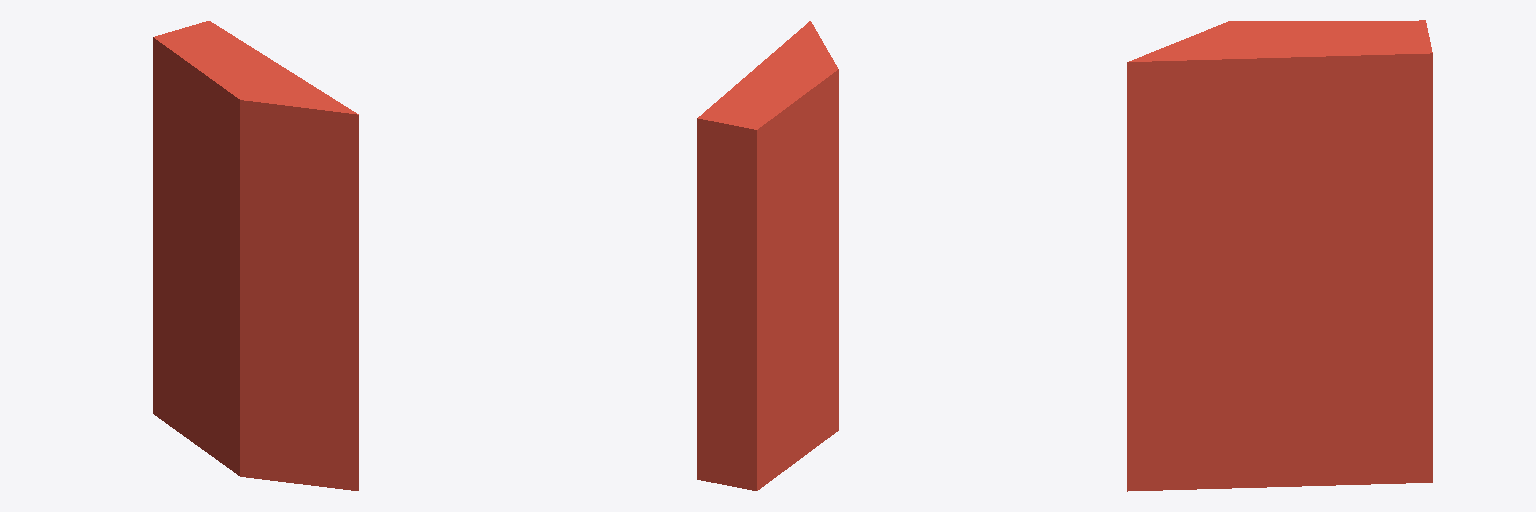
The robot description file, URDF, robot "quad_prism_9":
<?xml version="1.0" ?>
<robot name="quad_prism_9">
  <link name="base_link">
    <visual>
      <origin xyz="0 0 0" rpy="0 0 0"/>
      <geometry>
        <mesh filename="quad_prism_9.stl"/>
      </geometry>
      <material name="color">
        <color rgba="0.9521690641657882 0.3974659452846171 0.3192921887603527 1.0"/>
      </material>
    </visual>
    <collision>
      <origin xyz="0 0 0" rpy="0 0 0"/>
      <geometry>
        <mesh filename="quad_prism_9.stl"/>
      </geometry>
    </collision>
    <inertial>
      <origin xyz="0 0 0" rpy="0 0 0"/>
      <mass value="1.0"/>
      <inertia ixx="0.1" ixy="0" ixz="0" iyy="0.1" iyz="0" izz="0.1"/>
    </inertial>
  </link>
</robot>

--- Facts derived from the render (not from the file) ---
The picture shows the robot from 3 angles, left to right: view 1: azimuth 30°, elevation 25°; view 2: azimuth 150°, elevation 25°; view 3: azimuth 270°, elevation 25°; orthographic projection.
Robot: quad_prism_9 — 1 links, 0 joints (none); root link base_link; default pose: all joints at 0.
Links seen in each view (by area): view 1: base_link; view 2: base_link; view 3: base_link.
Boxes of the visible links, x1,y1,x2,y2 form: base_link: [153, 21, 358, 490]; base_link: [697, 21, 838, 490]; base_link: [1127, 20, 1432, 491].
Size in the robot's own frame: 0.6256 by 1.93 by 3 metres.
Meshes: 1 distinct files referenced, 1 mesh visuals loaded (1 binary STL).